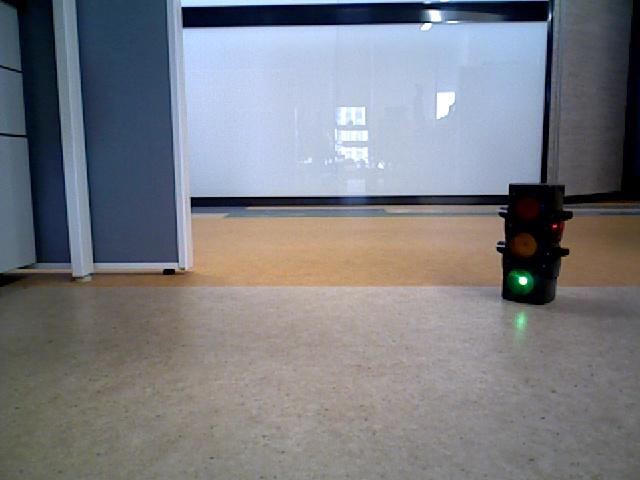green: (509, 185, 550, 296)
